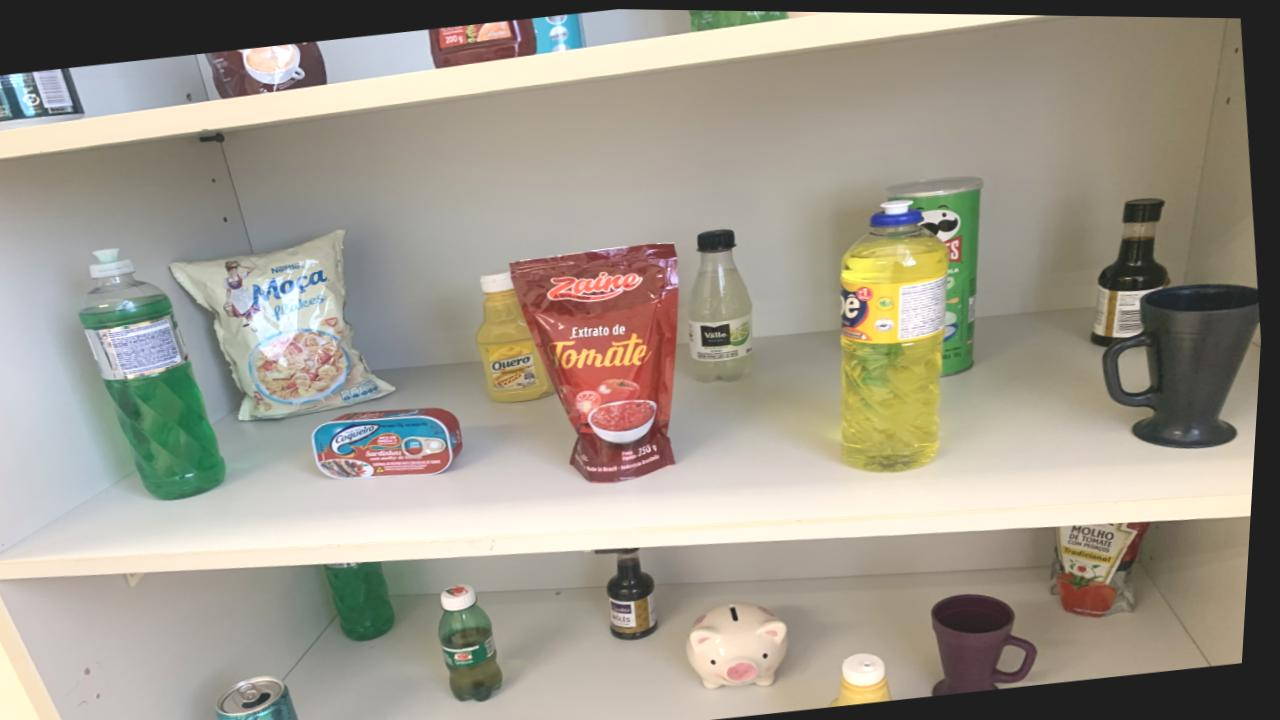Coffee-Pantry_Items: (207, 41, 327, 98)
Detergent-Cleanup_Items: (83, 248, 231, 500), (844, 197, 952, 469), (331, 560, 403, 640)
English_Sauce-Pantry_Items: (1094, 194, 1173, 342), (604, 546, 665, 638)
Flakes-Snacks: (173, 229, 398, 420)
Guarana-Drinks: (446, 582, 511, 700)
Guarana_Can-Drinks: (0, 68, 86, 130)
Ketchup-Pantry_Items: (429, 17, 539, 67), (541, 12, 586, 49)
Mustard-Pantry_Items: (480, 271, 559, 401), (837, 650, 900, 704)
Pig_Safe-Miscellaneous: (694, 600, 796, 686)
Pringles-Snacks: (891, 173, 984, 373), (689, 8, 788, 29)
Soda-Drinks: (691, 227, 759, 380)
Tea-Drinks: (226, 675, 308, 720)
Tomato_Sauce-Pantry_Items: (515, 240, 683, 481), (1057, 518, 1156, 614)
Tuna_Can-Pantry_Items: (316, 406, 468, 479)
